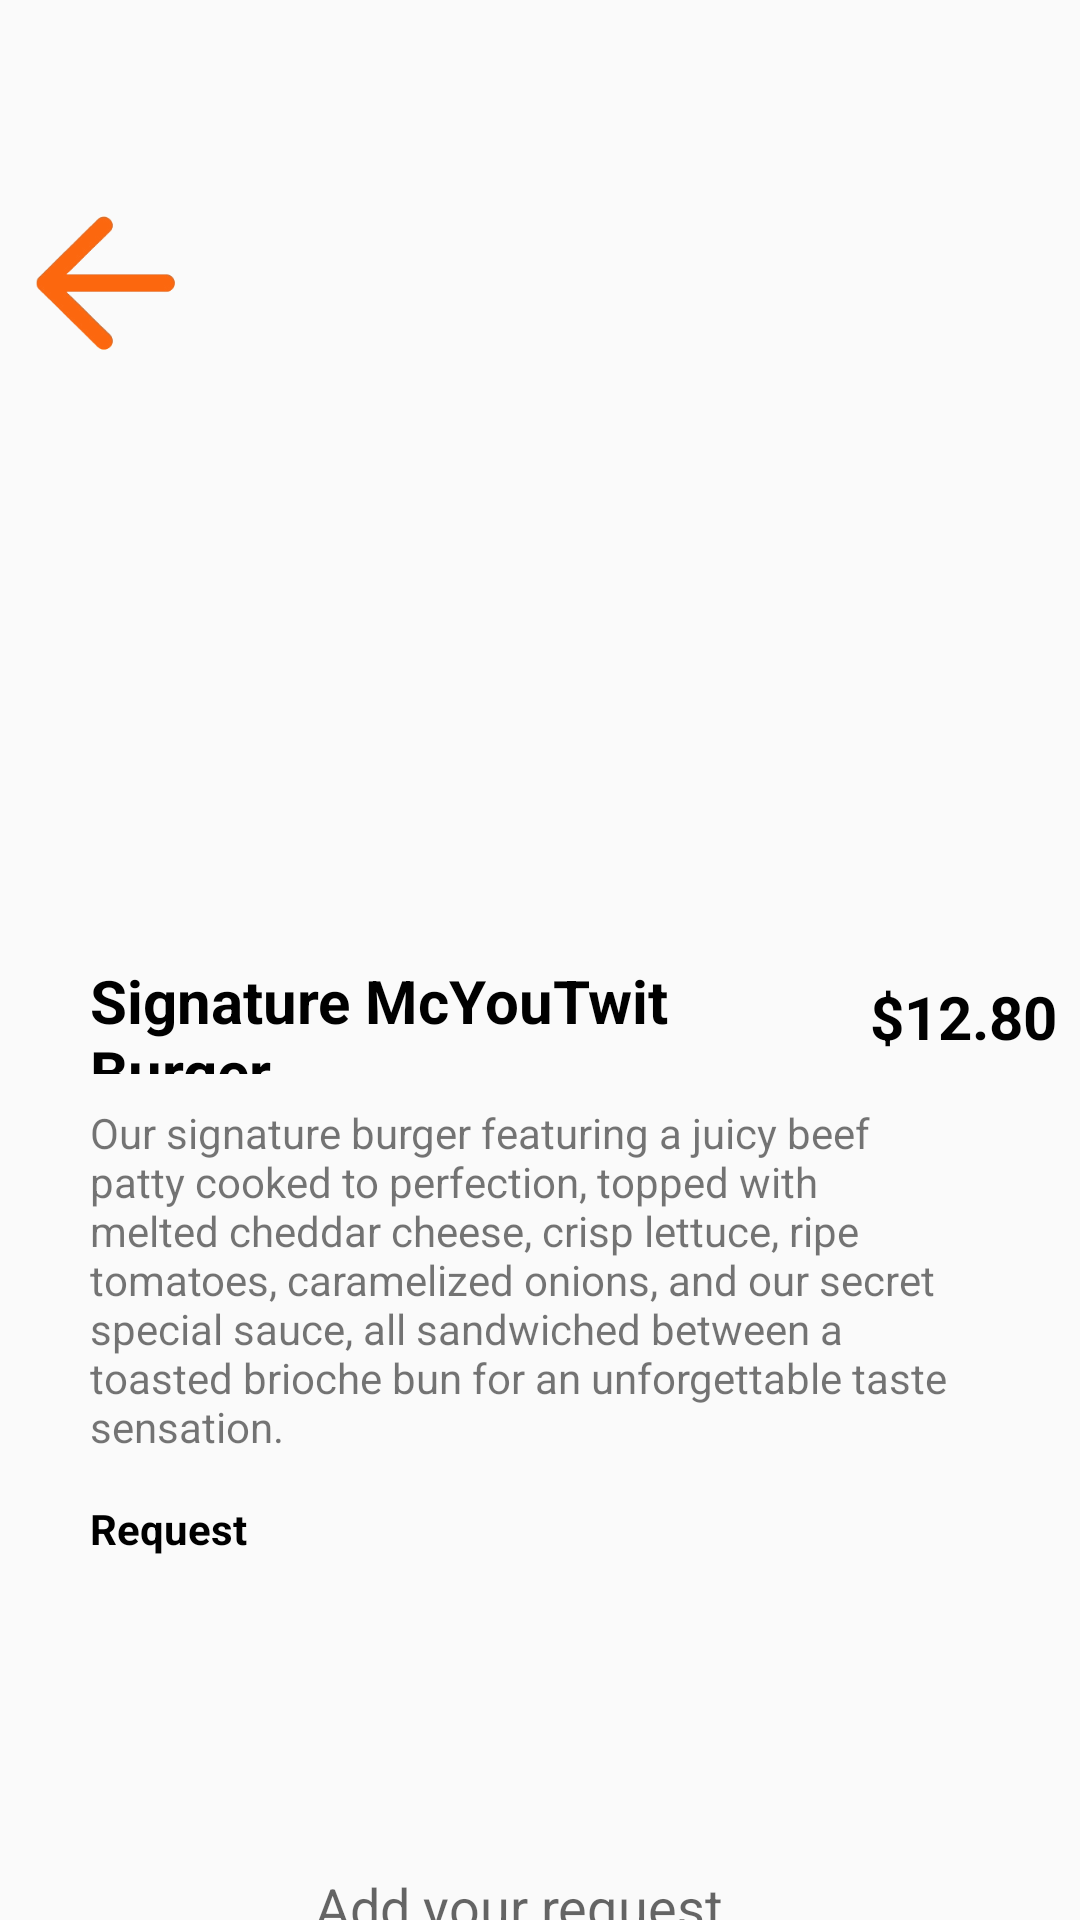

Point at icon controls on the screen. Image size 1080w x 1920h, points as [x,y].
arrow: [105,283]
